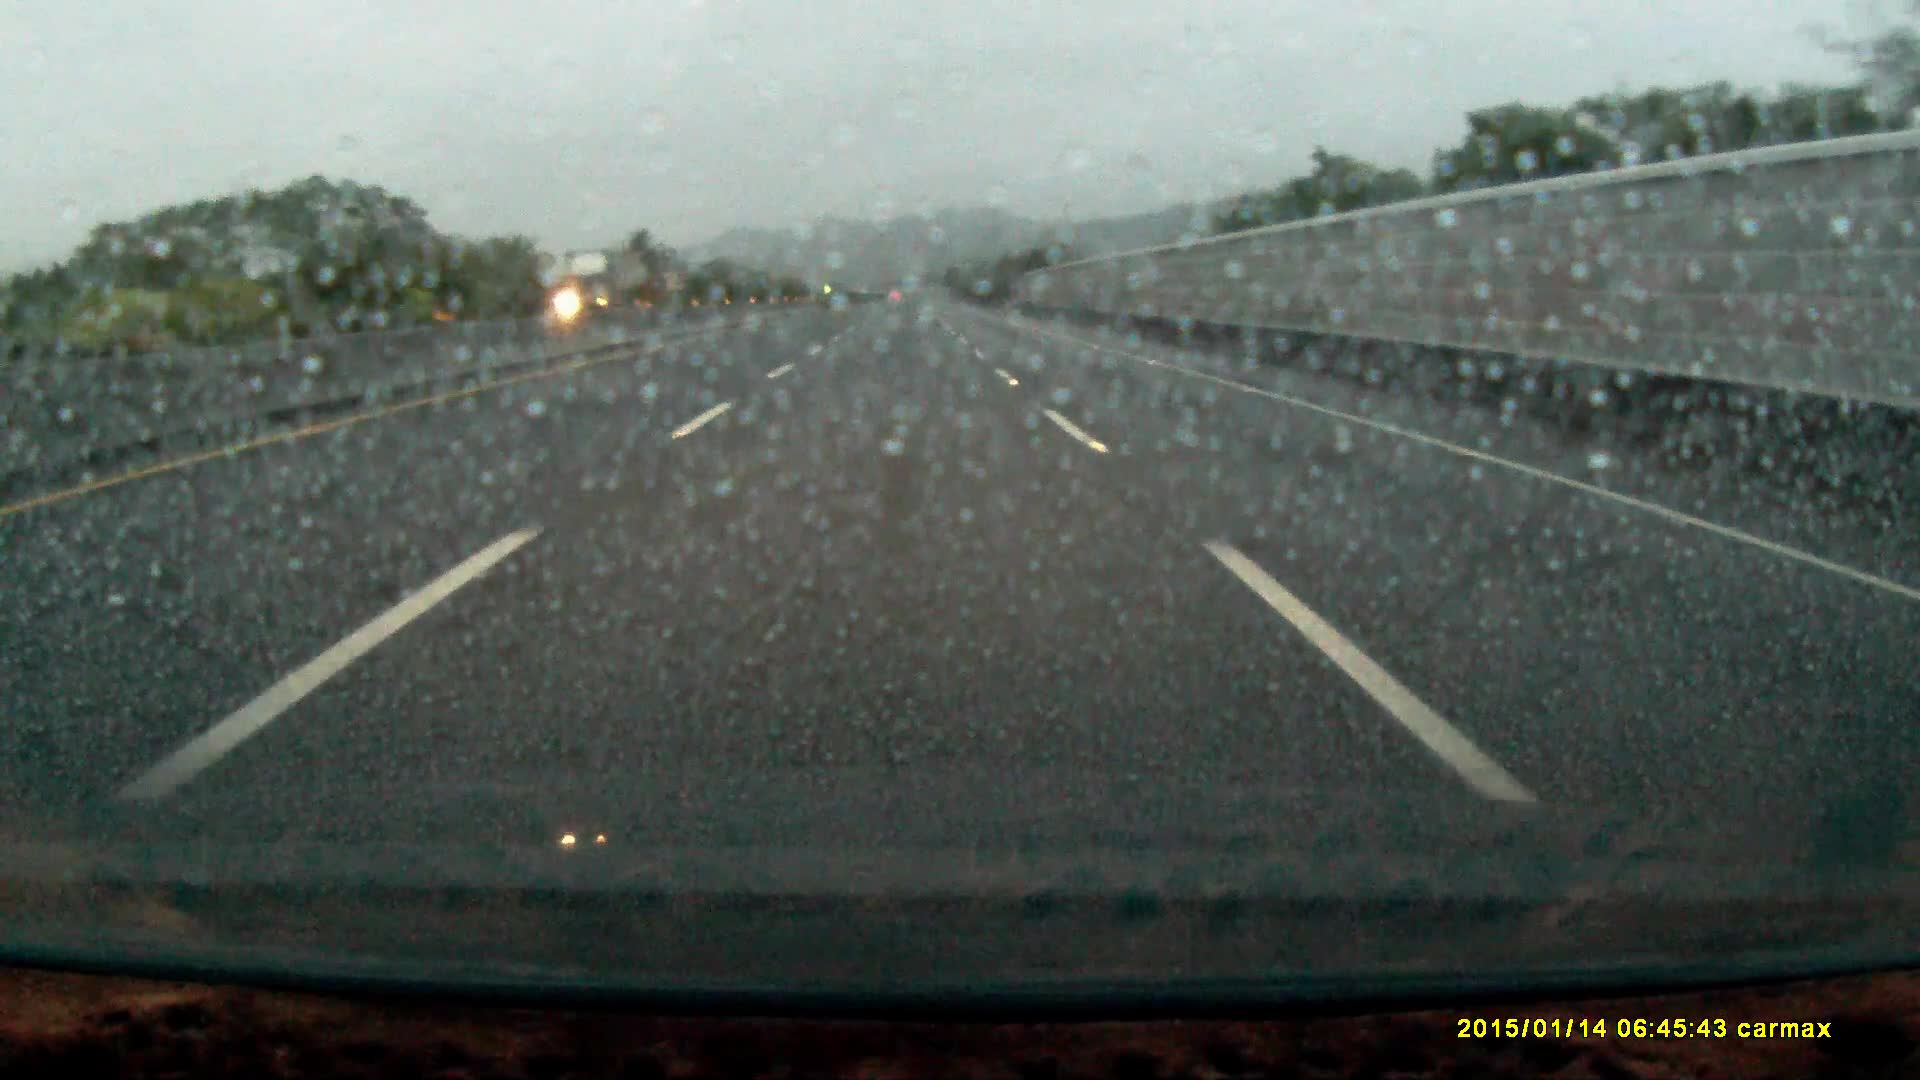vehicle: (555, 255, 650, 318)
